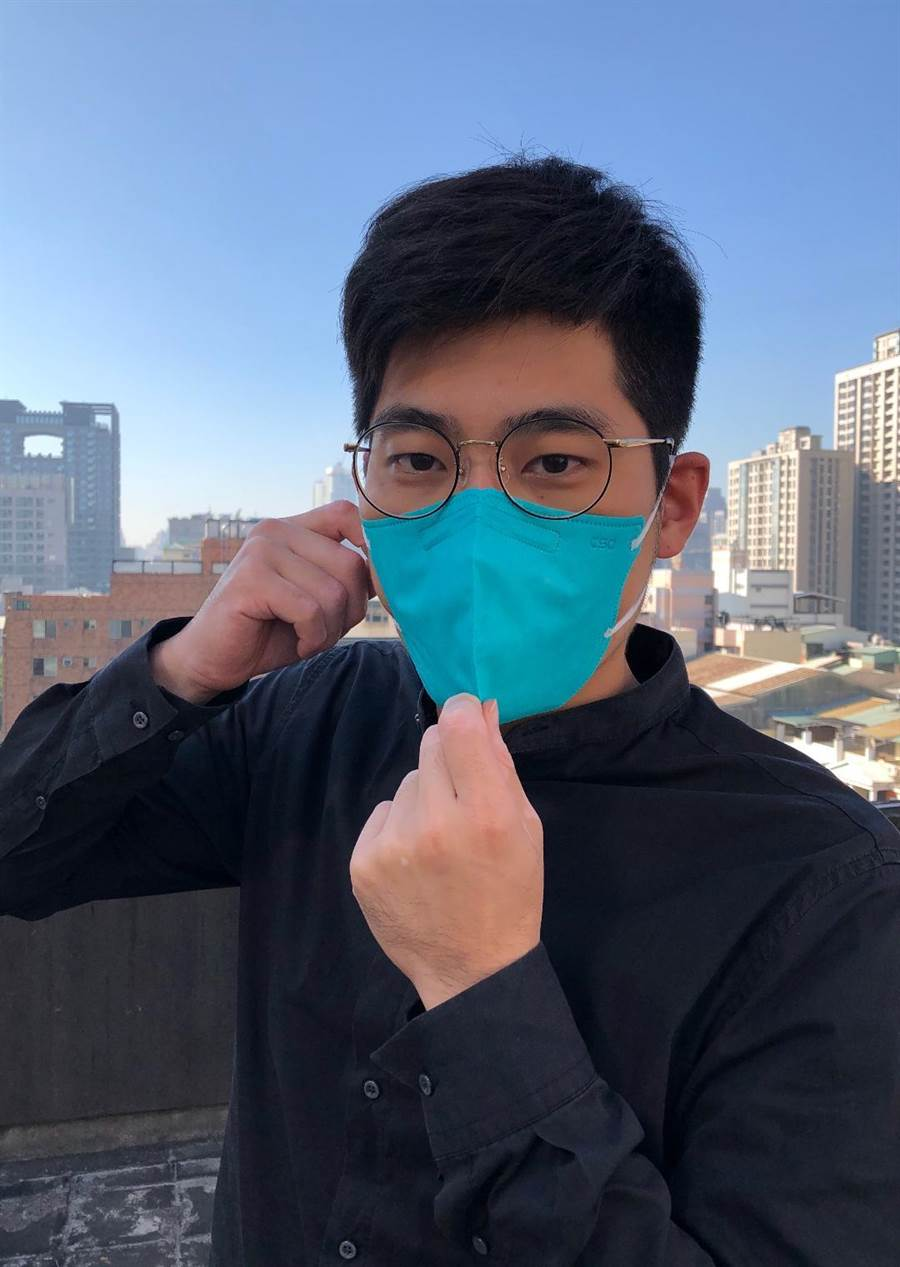Mask: (356, 329, 678, 719)
